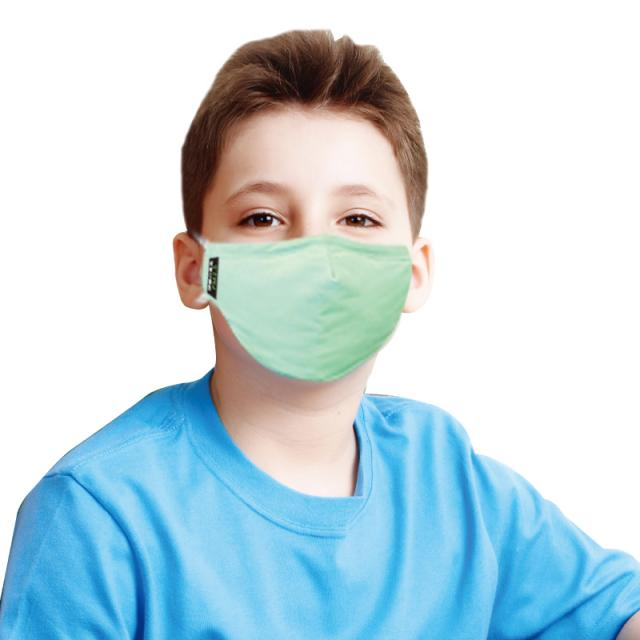mask: (203, 98, 410, 374)
